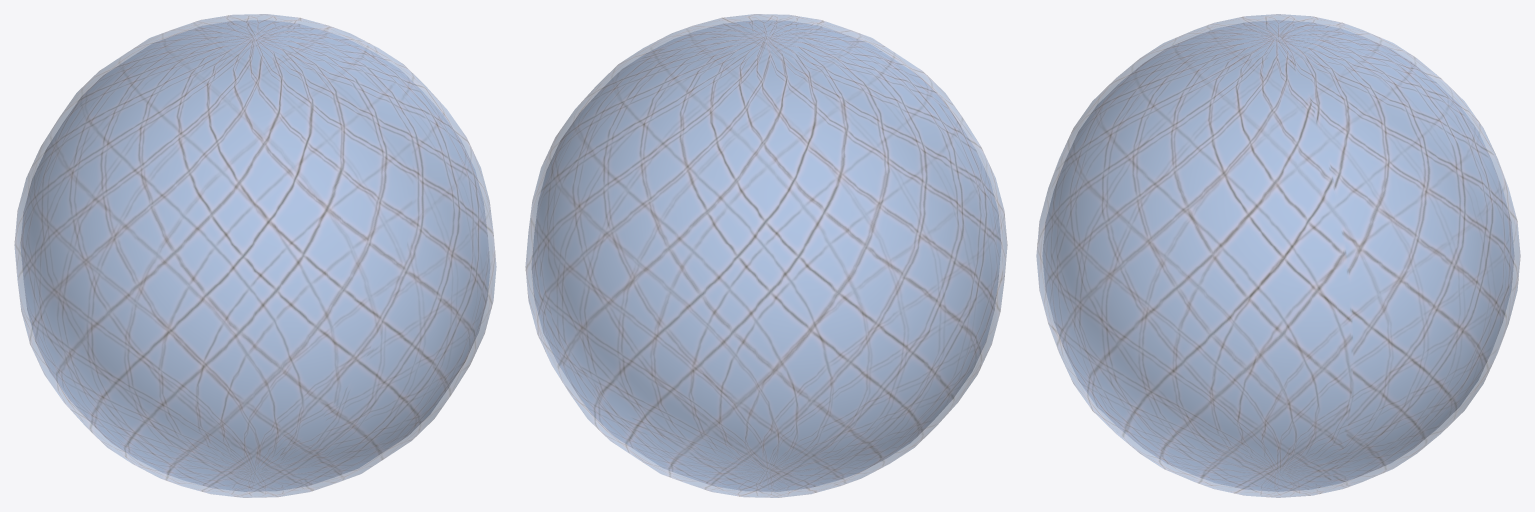
Rendered from Roller_Prototype_OuterShell1C.fbx.
3 views of the same model, side by side, from view 1: azimuth 30°, elevation 25°; view 2: azimuth 150°, elevation 25°; view 3: azimuth 270°, elevation 25° (orthographic).
Visible parts, largest first — view 1: OuterShell_OuterSurface, OuterShell_InnerSurface; view 2: OuterShell_OuterSurface, OuterShell_InnerSurface; view 3: OuterShell_OuterSurface, OuterShell_InnerSurface.
Part boxes in pixels (x1,y1,x2,y2): OuterShell_OuterSurface: (14, 14, 496, 497); OuterShell_InnerSurface: (21, 20, 489, 491); OuterShell_OuterSurface: (525, 14, 1007, 497); OuterShell_InnerSurface: (532, 20, 1000, 491); OuterShell_OuterSurface: (1036, 14, 1520, 497); OuterShell_InnerSurface: (1042, 20, 1514, 491).
Size of the model in its own units: 3 by 3 by 3.
